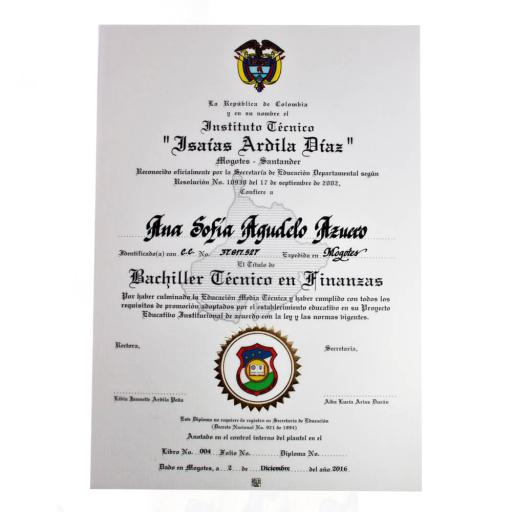diploma: (92, 27, 420, 489)
escudo: (228, 35, 301, 97)
institucion: (156, 115, 369, 157)
nombre: (136, 204, 372, 247)
